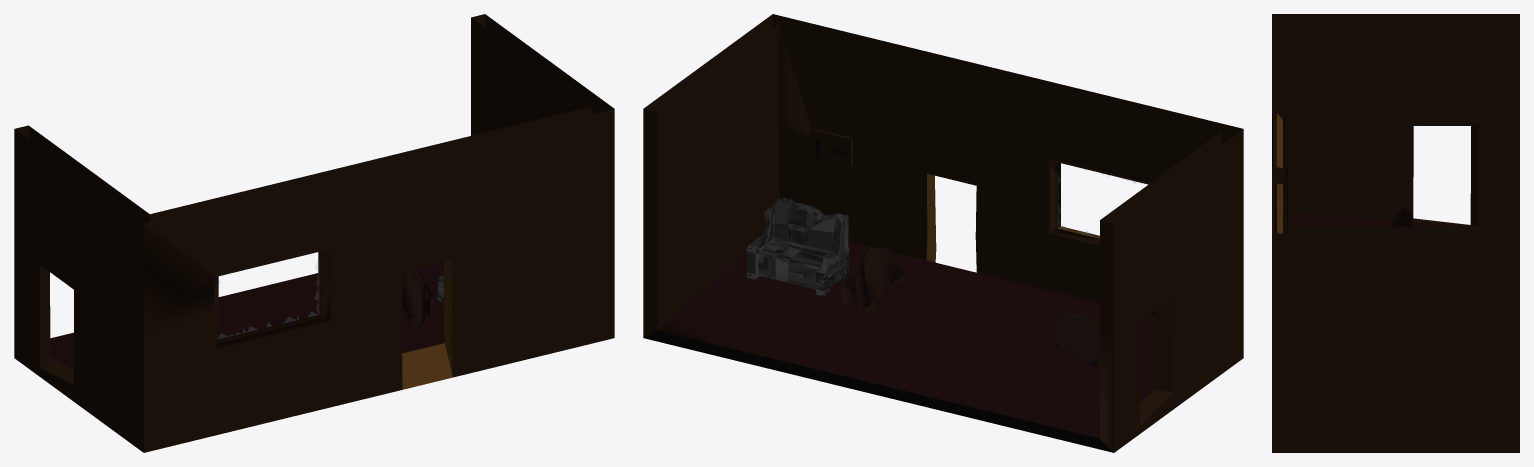
Rendered from myhome1.FBX.
The picture shows the model from 3 angles, left to right: view 1: azimuth 30°, elevation 25°; view 2: azimuth 150°, elevation 25°; view 3: azimuth 270°, elevation 25°; orthographic projection. The views are drawn at different scales.
Visible parts, largest first — view 1: Box001; view 2: Box001; view 3: Box001.
Boxes of the visible parts, bbox=[...] form: Box001: bbox=[14, 14, 614, 452]; Box001: bbox=[643, 14, 1243, 452]; Box001: bbox=[1272, 14, 1519, 452].
Size of the model in its own units: 1023 by 476 by 487.
